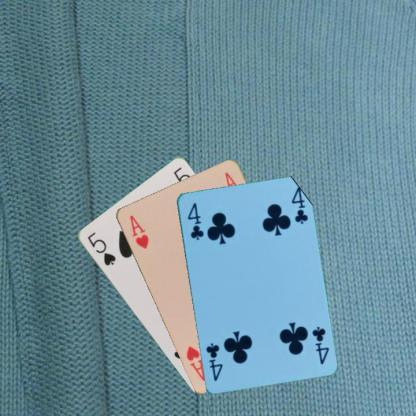4c: (309, 324, 330, 366), (184, 200, 204, 241)
5s: (84, 229, 118, 267)
Ah: (126, 212, 150, 250)
